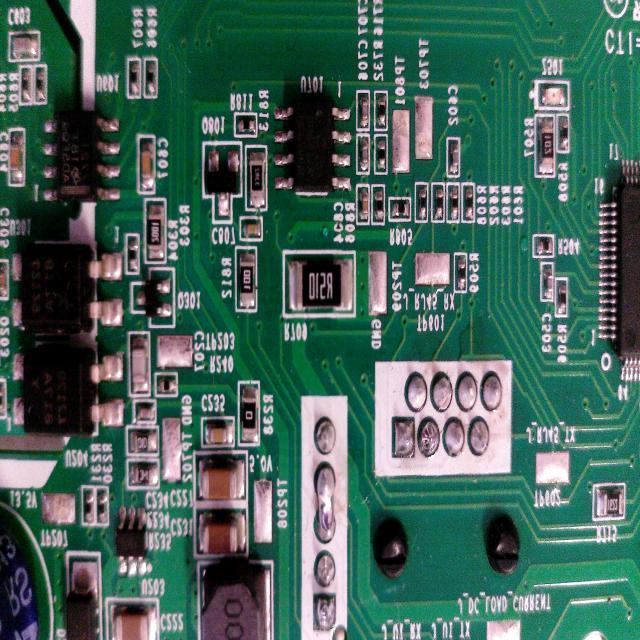Soldering shorted: (316, 465, 336, 546)
